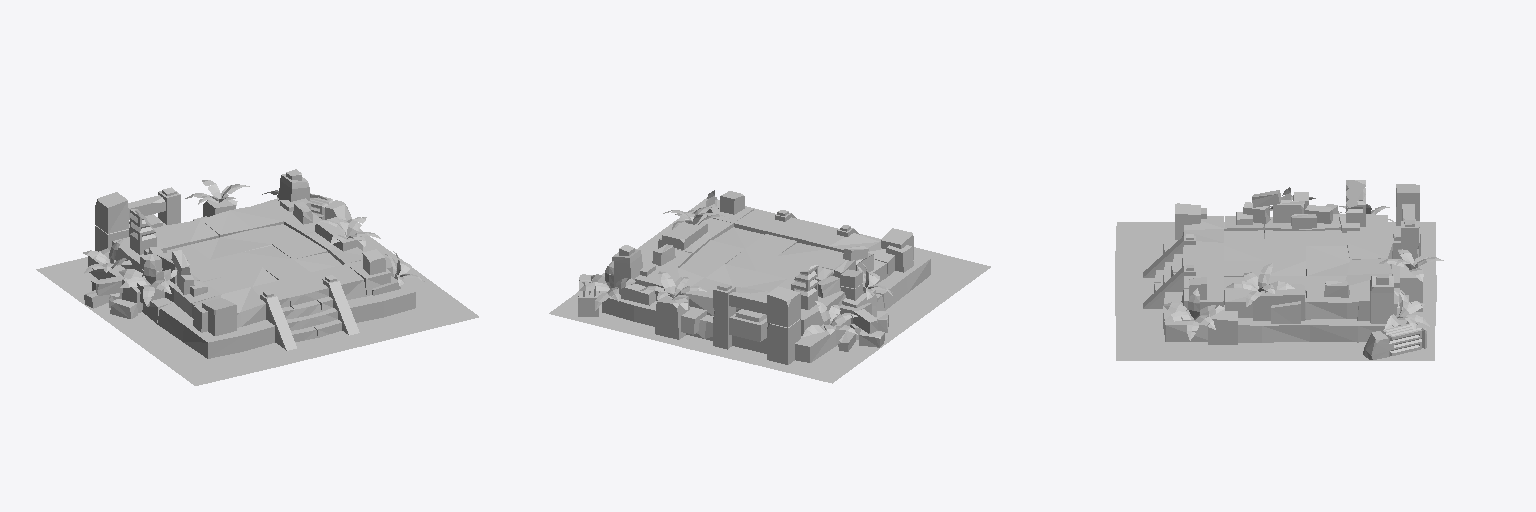
Rendered from platform.obj.
3 renders of one model, left to right at view 1: azimuth 30°, elevation 25°; view 2: azimuth 150°, elevation 25°; view 3: azimuth 270°, elevation 25°, orthographic.
Visible parts, largest first — view 1: Temple_0, Seashore_0, Bricks_1, FernB.002_0, Bricks_0, FernA.001_0, FernB_0, FernA_0; view 2: Temple_0, Seashore_0, Bricks_1, Bricks_0, FernB.001_0, FernA_0, FernB_0; view 3: Temple_0, Seashore_0, Bricks_1, FernB.003_0, Bricks_0, FernA.001_0, FernB.001_0, FernA_0.
Boxes of the visible parts, <box> form: Temple_0: <box>88,169,415,358</box>; Seashore_0: <box>36,229,478,385</box>; Bricks_1: <box>84,202,312,318</box>; FernB.002_0: <box>119,254,176,305</box>; Bricks_0: <box>96,247,177,295</box>; FernA.001_0: <box>320,217,380,246</box>; FernB_0: <box>83,239,131,273</box>; FernA_0: <box>185,180,249,205</box>; Temple_0: <box>578,191,930,364</box>; Seashore_0: <box>549,198,990,383</box>; Bricks_1: <box>652,244,888,351</box>; Bricks_0: <box>818,260,877,333</box>; FernB.001_0: <box>579,261,635,310</box>; FernA_0: <box>638,271,706,309</box>; FernB_0: <box>801,301,857,337</box>; Temple_0: <box>1143,180,1426,359</box>; Seashore_0: <box>1115,222,1436,360</box>; Bricks_1: <box>1252,190,1349,297</box>; FernB.003_0: <box>1163,288,1224,340</box>; Bricks_0: <box>1273,200,1338,223</box>; FernA.001_0: <box>1226,263,1294,306</box>; FernB.001_0: <box>1384,290,1429,329</box>; FernA_0: <box>1379,249,1443,281</box>.
Bounding box in the file's own units: 5.47 × 1.34 × 5.49.